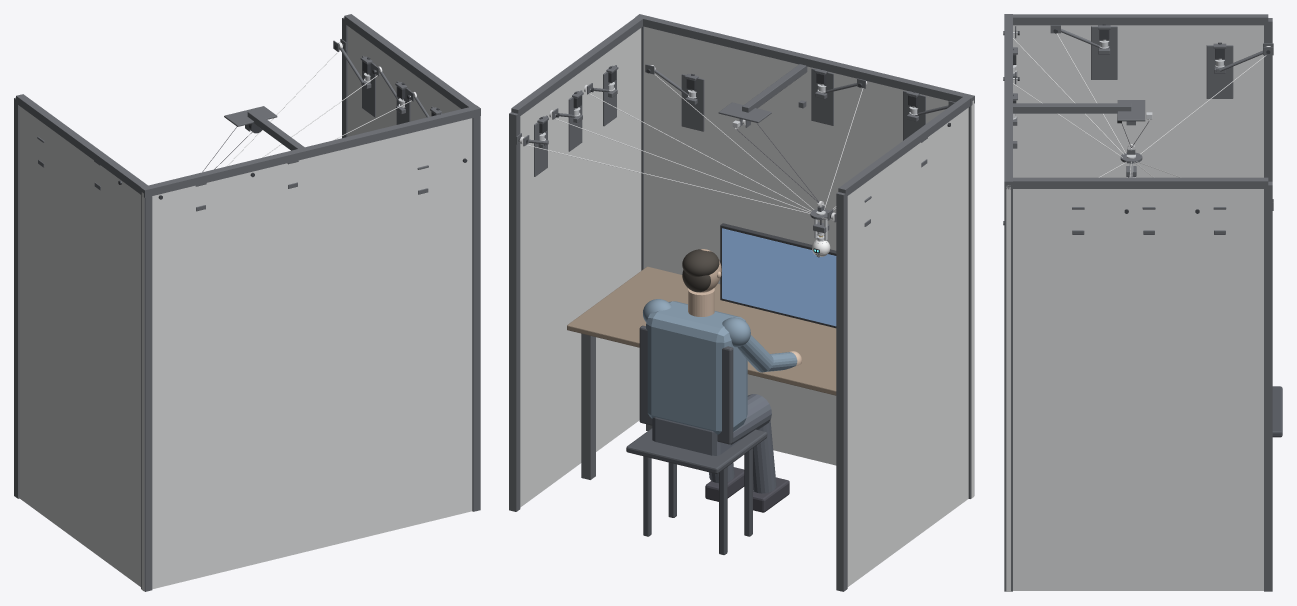
The model's file is rig.glb.
3 renders of one model, left to right at view 1: azimuth 30°, elevation 25°; view 2: azimuth 150°, elevation 25°; view 3: azimuth 270°, elevation 25°, orthographic. The views are drawn at different scales.
Parts seen in each view (by area): view 1: wall_back, wall_side_-1, wall_side_1, edge_top_back, edge_-1_0, edge_1_0, edge_-1_1100, edge_top_-1, edge_top_1, boom, edge_1_1100; view 2: wall_side_-1, wall_back, wall_side_1, desk, person_torso, monitor_scr, edge_-1_1100, edge_1_1100, edge_top_back, chair_seat, leg_1_1, chair_back (+20 smaller); view 3: wall_side_1, wall_side_-1, edge_1_1100, edge_top_1, edge_top_-1, wall_back, edge_1_0, edge_top_back, edge_-1_1100, boom, W4_plate, W6_plate (+2 smaller).
Part boxes in pixels (left/top/right/bottom): wall_back: left=141, top=118, right=472, bottom=590; wall_side_-1: left=19, top=106, right=140, bottom=586; wall_side_1: left=348, top=26, right=460, bottom=136; edge_top_back: left=140, top=105, right=480, bottom=197; edge_-1_0: left=141, top=192, right=152, bottom=591; edge_1_0: left=472, top=112, right=480, bottom=511; edge_-1_1100: left=14, top=97, right=19, bottom=498; edge_top_-1: left=16, top=94, right=147, bottom=194; edge_top_1: left=344, top=14, right=477, bottom=108; boom: left=247, top=110, right=304, bottom=150; edge_1_1100: left=342, top=17, right=347, bottom=138; wall_side_-1: left=847, top=107, right=968, bottom=586; wall_back: left=644, top=26, right=973, bottom=498; wall_side_1: left=520, top=28, right=641, bottom=507; desk: left=567, top=266, right=836, bottom=395; person_torso: left=646, top=301, right=747, bottom=434; monitor_scr: left=722, top=228, right=836, bottom=326; edge_-1_1100: left=836, top=192, right=847, bottom=591; edge_1_1100: left=509, top=112, right=520, bottom=511; edge_top_back: left=636, top=14, right=974, bottom=106; chair_seat: left=626, top=428, right=767, bottom=473; leg_1_1: left=581, top=333, right=595, bottom=479; chair_back: left=639, top=325, right=733, bottom=444; wall_side_1: left=1013, top=189, right=1263, bottom=590; wall_side_-1: left=1013, top=25, right=1263, bottom=177; edge_1_1100: left=1264, top=181, right=1272, bottom=591; edge_top_1: left=1009, top=177, right=1268, bottom=188; edge_top_-1: left=1008, top=14, right=1268, bottom=25; wall_back: left=1006, top=185, right=1010, bottom=591; edge_1_0: left=1004, top=189, right=1012, bottom=591; edge_top_back: left=1004, top=14, right=1012, bottom=189; edge_-1_1100: left=1264, top=18, right=1272, bottom=181; boom: left=1013, top=103, right=1131, bottom=113; W4_plate: left=1206, top=45, right=1233, bottom=98; W6_plate: left=1091, top=26, right=1117, bottom=79.
Size of the model in its own units: 1.68 by 1.92 by 1.18.
